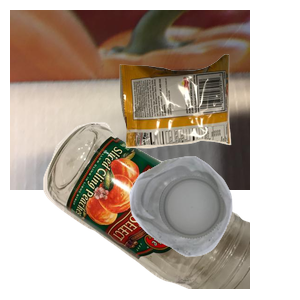cardboard: (10, 10, 250, 190)
glass: (41, 120, 281, 300)
plastic: (127, 154, 300, 300)
trash: (117, 52, 300, 193)
